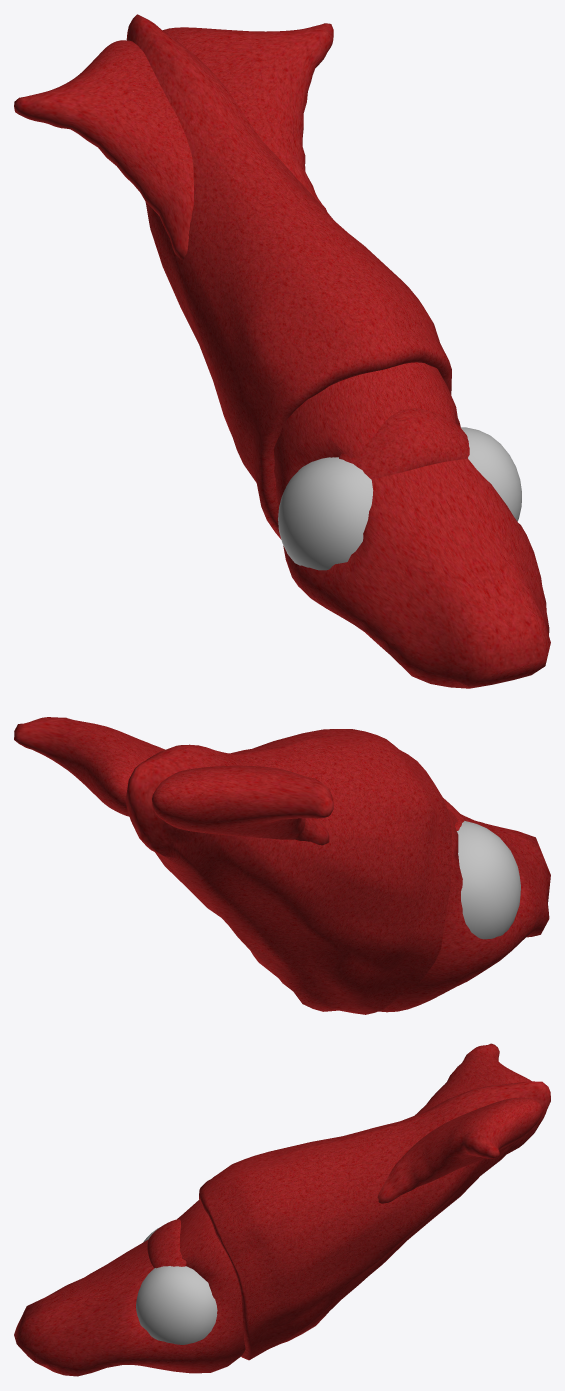
The model's file is GG_SM_krakHead.fbx.
The picture shows the model from 3 angles, top to bottom: view 1: azimuth 30°, elevation 25°; view 2: azimuth 150°, elevation 25°; view 3: azimuth 270°, elevation 25°; orthographic projection. The views are drawn at different scales.
Visible parts, largest first — view 1: GG_SM_KrakenHead, GG_SM_KrakEye1, GG_SM_KrakEye2; view 2: GG_SM_KrakenHead, GG_SM_KrakEye1; view 3: GG_SM_KrakenHead, GG_SM_KrakEye2.
Boxes of the visible parts, box(x1,y1,x2,y2) form: GG_SM_KrakenHead: box(14, 14, 550, 688); GG_SM_KrakEye1: box(278, 457, 373, 570); GG_SM_KrakEye2: box(460, 427, 521, 521); GG_SM_KrakenHead: box(14, 717, 550, 1014); GG_SM_KrakEye1: box(457, 821, 520, 939); GG_SM_KrakenHead: box(14, 1043, 550, 1376); GG_SM_KrakEye2: box(136, 1266, 217, 1344).
Size of the model in its own units: 1374 by 1736 by 2930.
